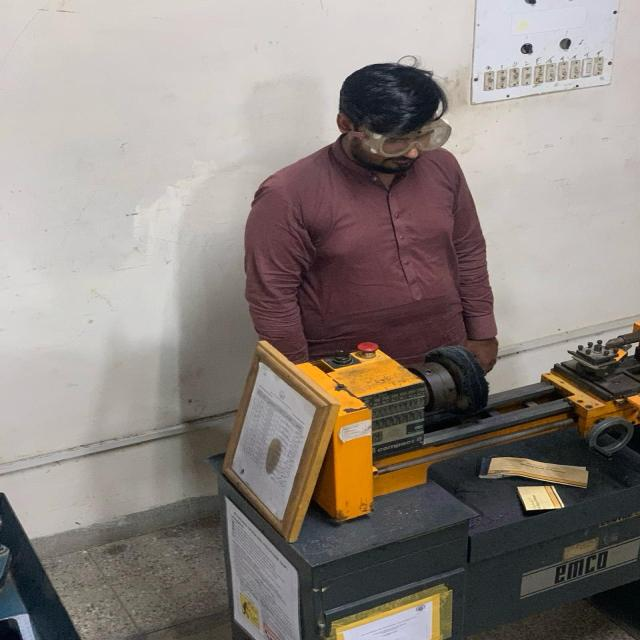googles: (354, 120, 464, 162)
